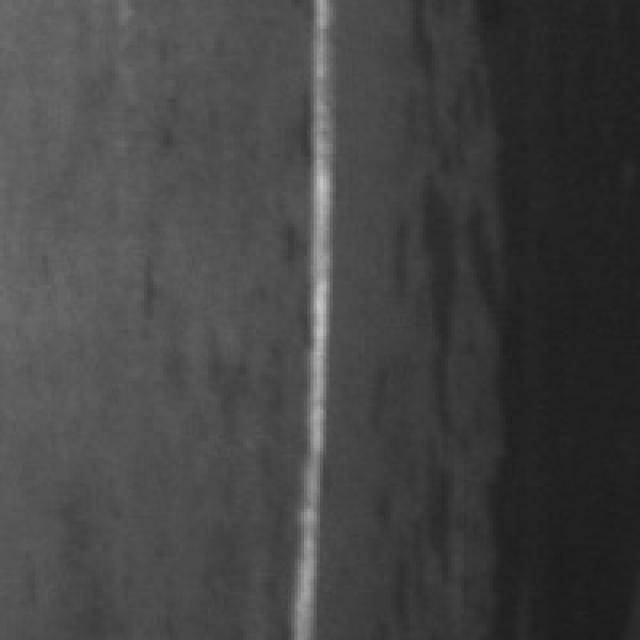inclusion: (400, 0, 630, 627)
scratches: (278, 0, 342, 634)
